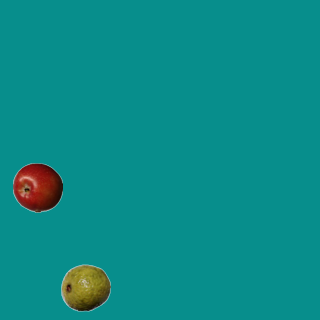Apple Braeburn: (12, 162, 62, 212)
Guava: (60, 262, 110, 312)
